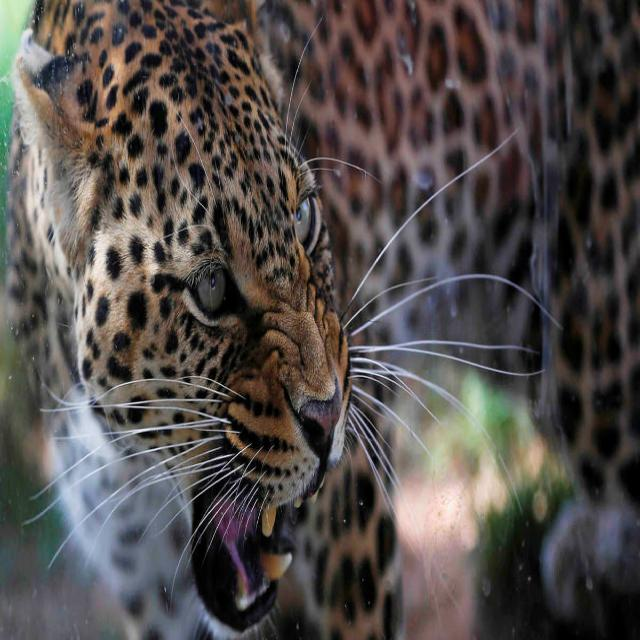Leopard: (5, 3, 640, 639)
